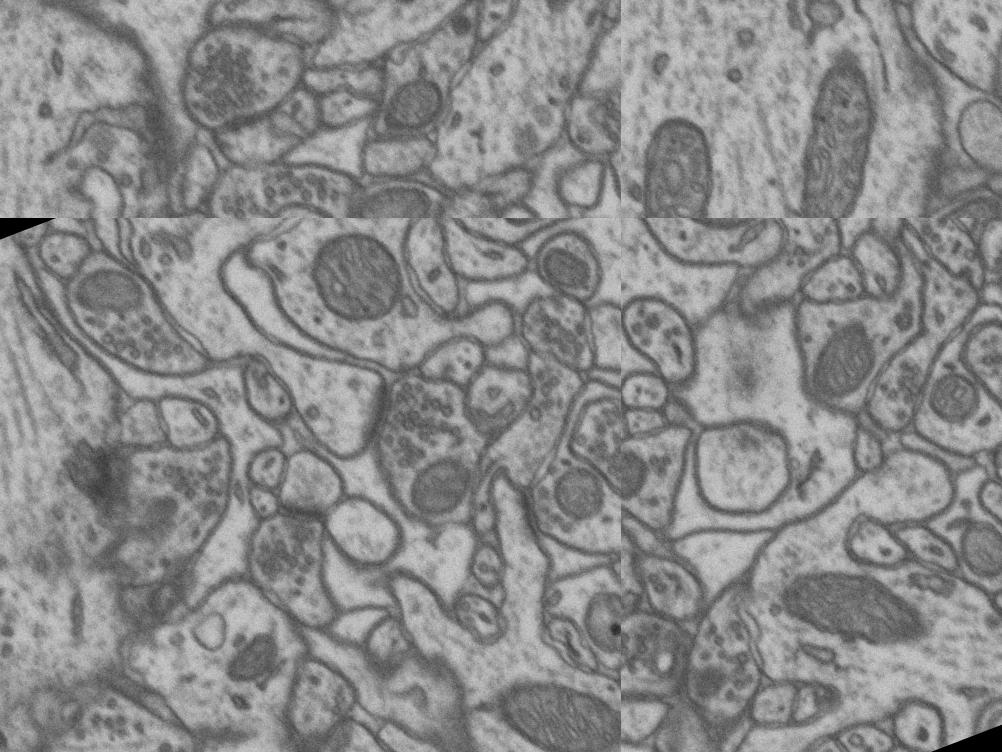mitochondria: (741, 41, 927, 218), (755, 528, 922, 680), (293, 218, 428, 346), (621, 99, 761, 218), (482, 640, 621, 752), (796, 302, 904, 412), (58, 244, 159, 342), (395, 441, 493, 534), (365, 63, 462, 151), (913, 350, 1002, 440), (532, 450, 621, 539), (557, 564, 621, 675), (210, 619, 298, 698), (650, 218, 799, 262), (674, 642, 756, 720), (526, 229, 602, 304), (943, 500, 1002, 595), (874, 176, 1002, 218), (343, 166, 446, 218), (621, 432, 671, 520)
